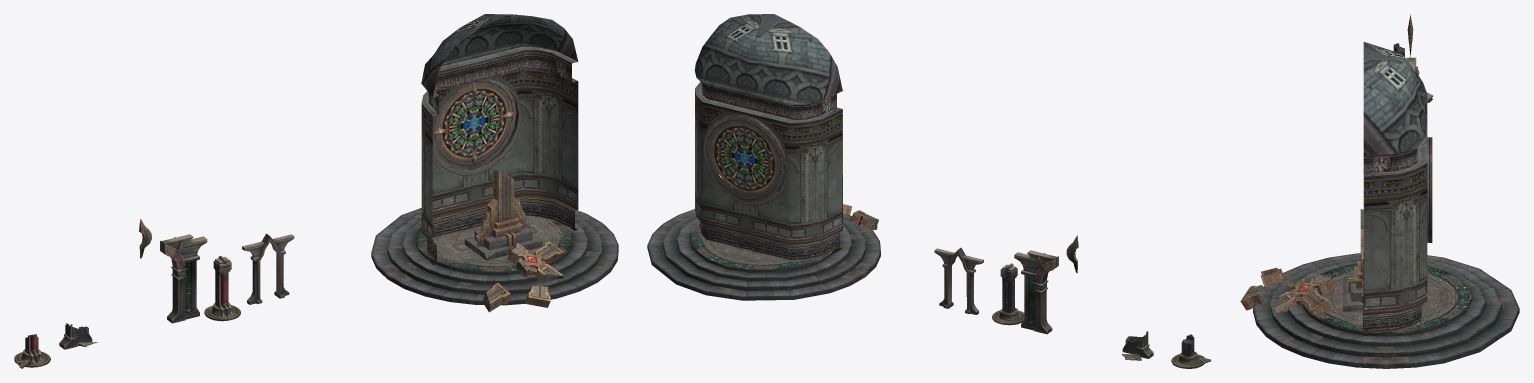
Rendered from f_103_door_b.FBX.
3 views of the same model, side by side, from view 1: azimuth 30°, elevation 25°; view 2: azimuth 150°, elevation 25°; view 3: azimuth 270°, elevation 25° (orthographic). The views are drawn at different scales.
Parts seen in each view (by area): view 1: w_103_wall_01, w_103_wall_05, w_103_wall_03, w_103_door_b03, w_103_wall_04, w_103_door_b05, w_103_door_b04, w_103_door_b07, w_103_door_b06; view 2: w_103_wall_01, w_103_wall_05, w_103_door_b03, w_103_door_b05, w_103_door_b04, w_103_door_b07, w_103_door_b06, w_103_wall_04; view 3: w_103_wall_01, w_103_wall_05, w_103_wall_04, w_103_wall_03.
Boxes of the visible parts, bbox=[...] form: w_103_wall_01: bbox=[421, 14, 578, 264]; w_103_wall_05: bbox=[371, 208, 618, 305]; w_103_wall_03: bbox=[464, 170, 542, 260]; w_103_door_b03: bbox=[160, 234, 207, 323]; w_103_wall_04: bbox=[483, 241, 563, 312]; w_103_door_b05: bbox=[242, 233, 294, 304]; w_103_door_b04: bbox=[204, 256, 240, 321]; w_103_door_b07: bbox=[14, 334, 50, 368]; w_103_door_b06: bbox=[59, 323, 97, 349]; w_103_wall_01: bbox=[694, 14, 842, 260]; w_103_wall_05: bbox=[647, 209, 880, 300]; w_103_door_b03: bbox=[1014, 250, 1058, 334]; w_103_door_b05: bbox=[934, 247, 983, 314]; w_103_door_b04: bbox=[992, 263, 1024, 325]; w_103_door_b07: bbox=[1171, 334, 1211, 368]; w_103_door_b06: bbox=[1122, 331, 1153, 360]; w_103_wall_04: bbox=[843, 204, 878, 229]; w_103_wall_01: bbox=[1363, 42, 1432, 335]; w_103_wall_05: bbox=[1253, 253, 1519, 368]; w_103_wall_04: bbox=[1240, 267, 1336, 314]; w_103_wall_03: bbox=[1343, 209, 1363, 311].
Size of the model in its own units: 3680 by 1506 by 1425.
